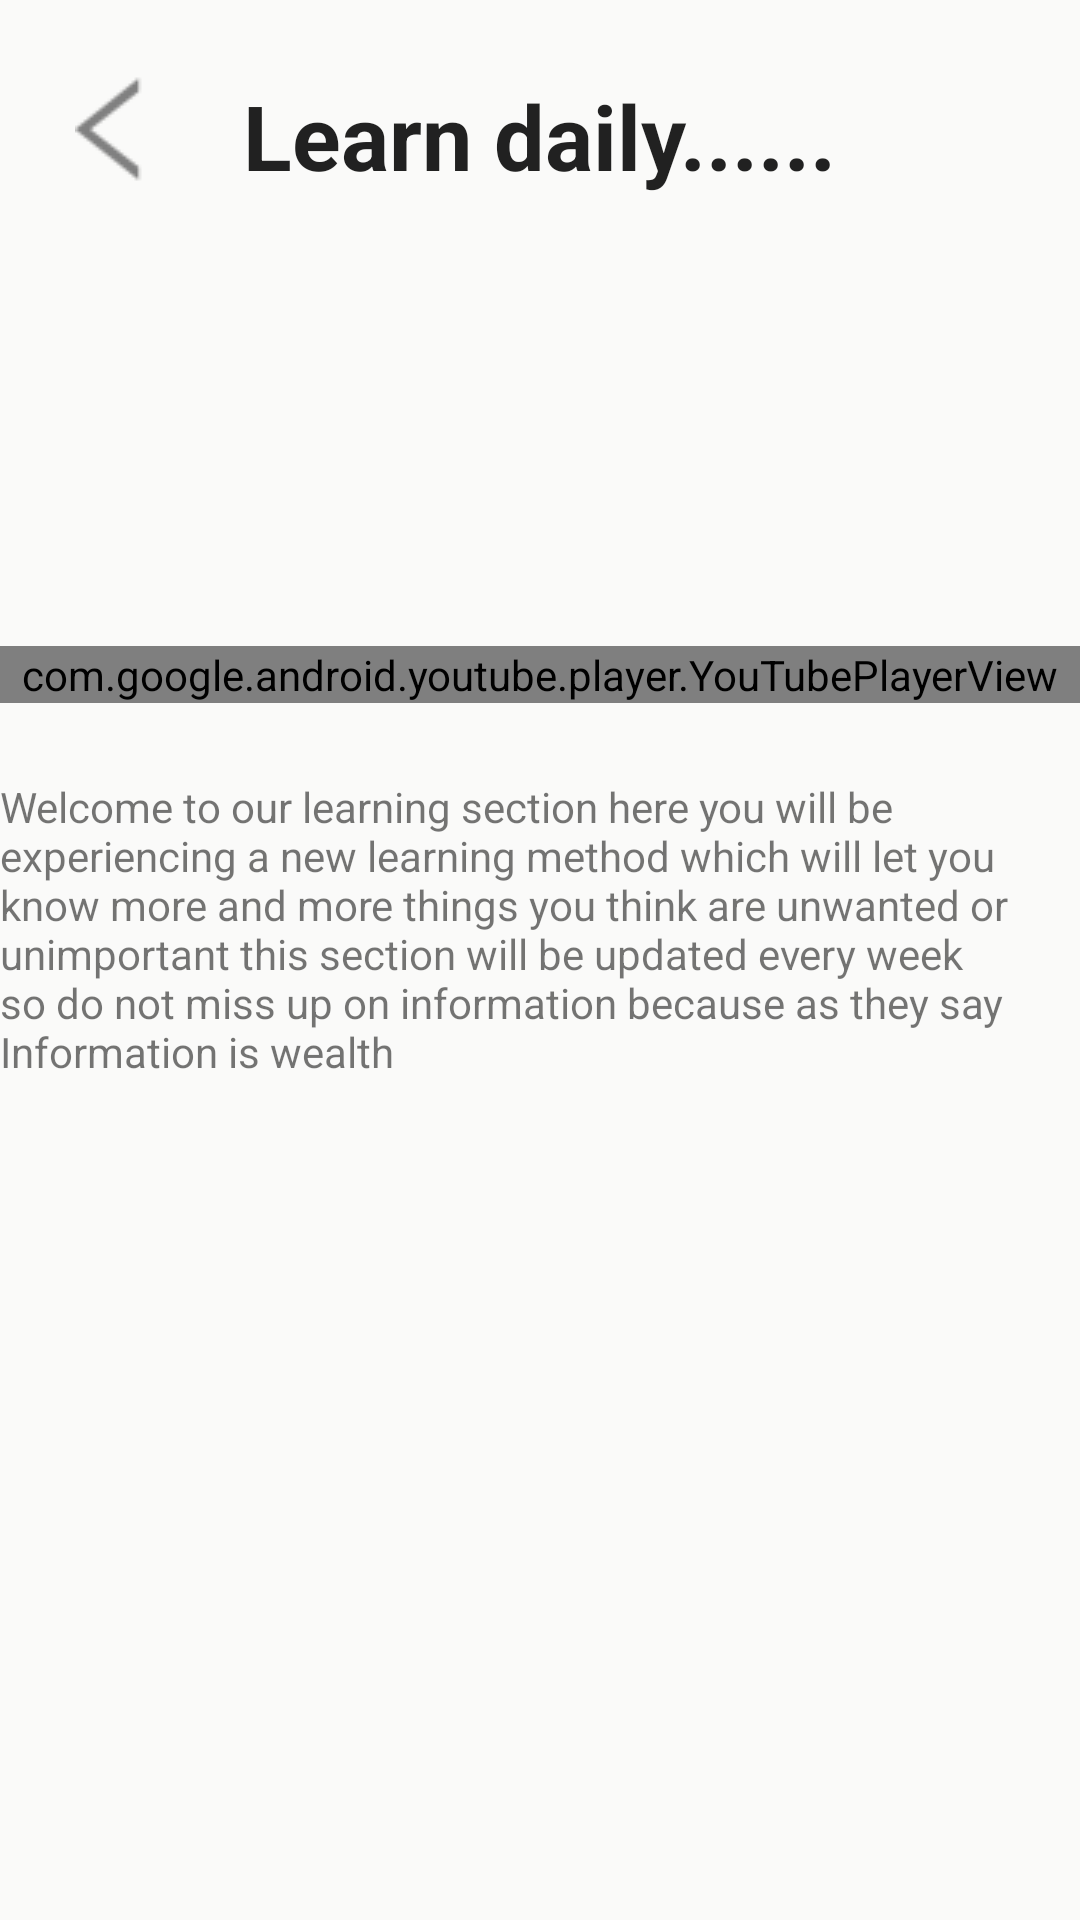

Locate icon controls on the screen. Image size 1080 x 1920, boxes as [left=x1, top=y1, right=x2, bottom=y2].
back: [left=75, top=78, right=140, bottom=180]
